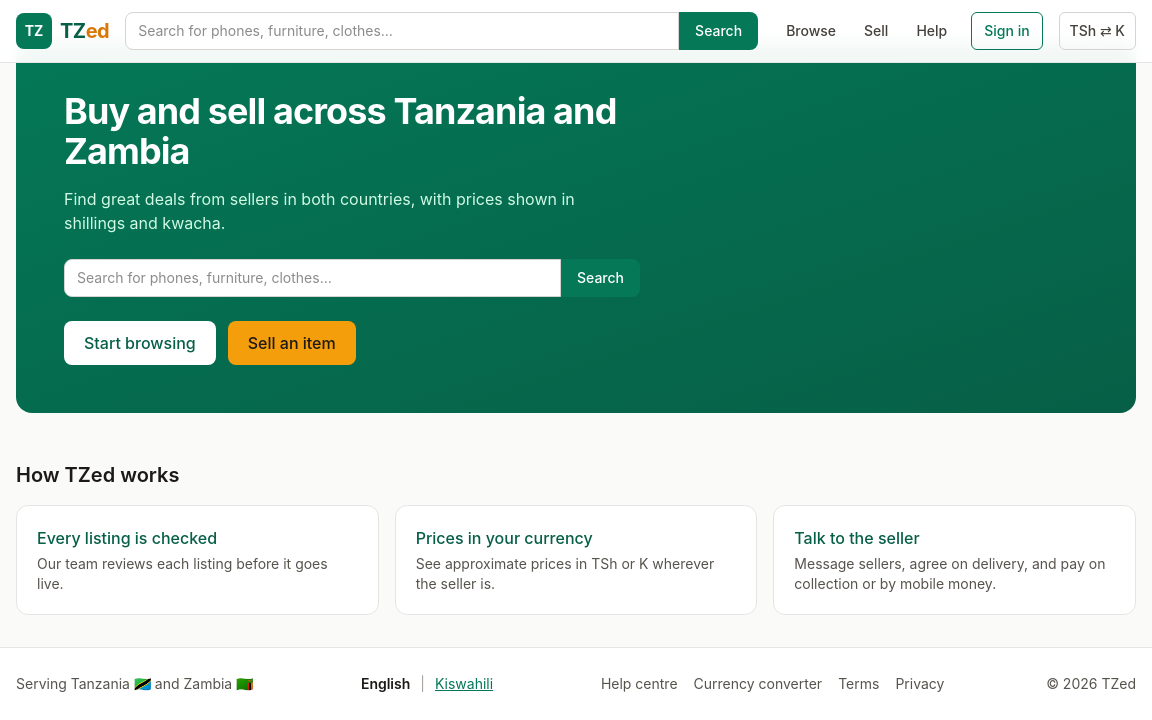
Language › switches the whole page to Swahili and remembers the choice
The image size is (1152, 720).
(page scrolled)
Expected: the heading "Buy and sell across Tanzania and Zambia" is shown, left=64, top=89, right=616, bottom=173
Click the button "Kiswahili".
click(464, 684)  # box left=429, top=672, right=499, bottom=696
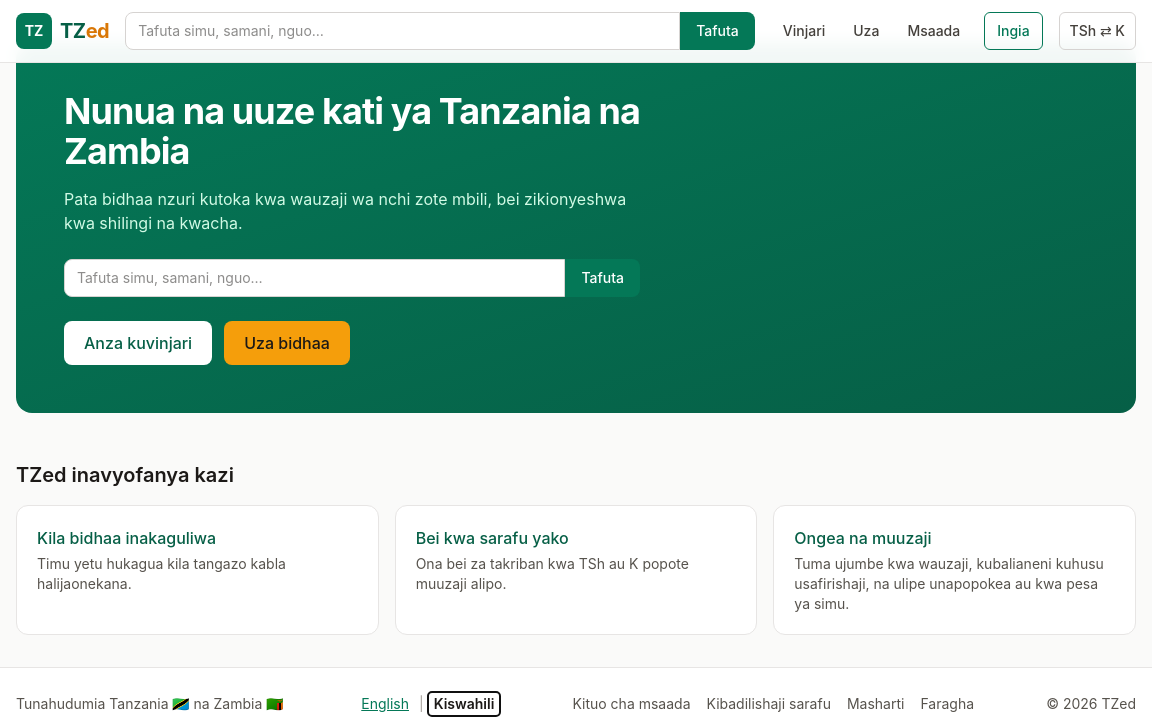
Expected: the heading "Nunua na uuze kati ya Tanzania na Zambia" is shown, left=64, top=91, right=736, bottom=171
Expected: the link "Vinjari" is shown, left=783, top=22, right=825, bottom=39
Click the button "English".
click(385, 704)  # box left=355, top=692, right=415, bottom=716
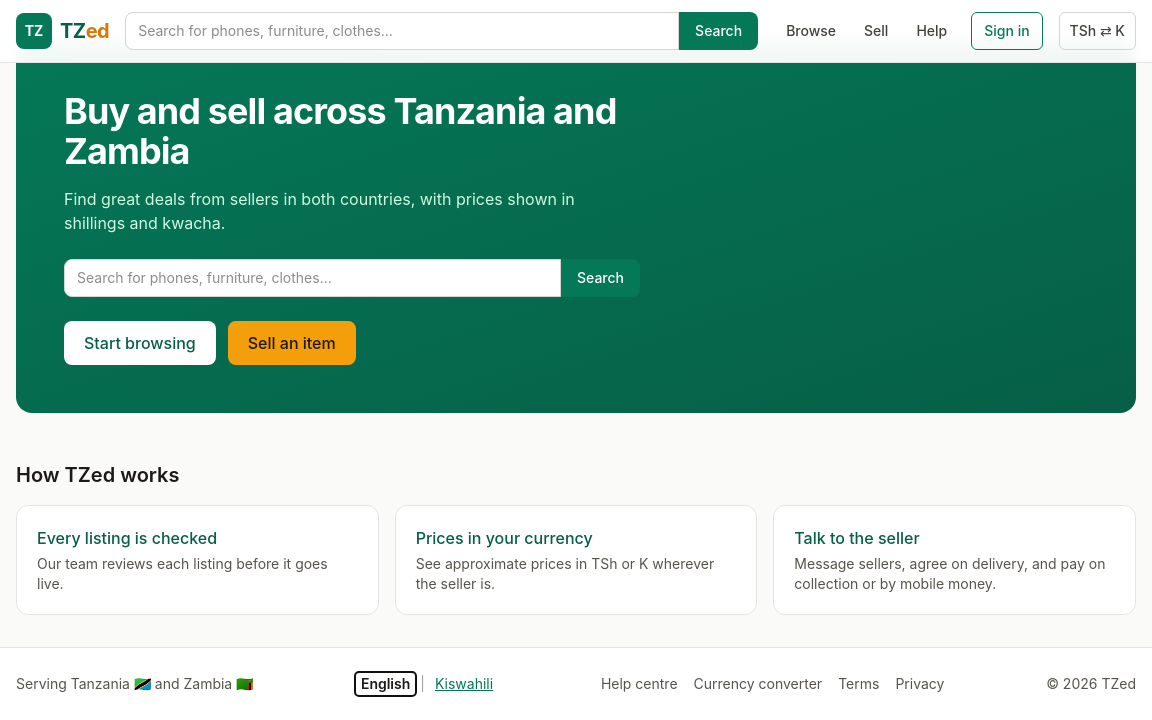
Expected: the link "Browse" is shown, left=786, top=22, right=836, bottom=39
